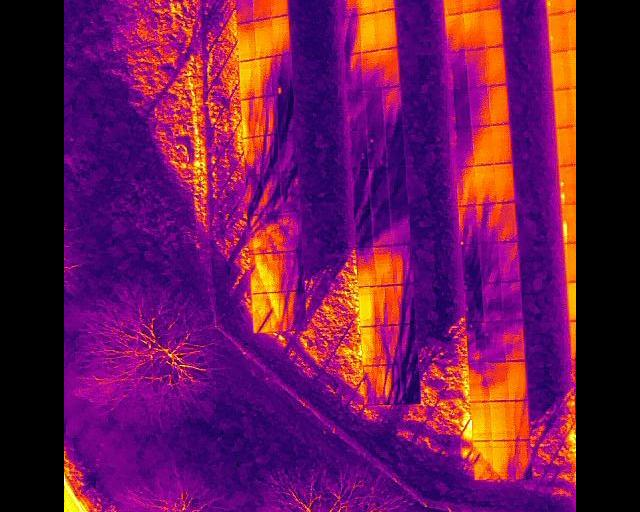Cell: (549, 12, 567, 50), (546, 0, 565, 12)
Cell-Multi: (560, 164, 576, 203)
No-Anomaly: (491, 122, 511, 164), (489, 83, 509, 125), (483, 8, 503, 48), (507, 360, 527, 399), (254, 18, 273, 57), (378, 9, 397, 48), (486, 46, 505, 85), (490, 399, 508, 440), (472, 400, 490, 439), (237, 21, 255, 59), (359, 13, 377, 51), (552, 49, 569, 88), (555, 88, 572, 126), (360, 286, 376, 326), (557, 126, 573, 165), (269, 0, 288, 15), (443, 0, 462, 15), (357, 0, 376, 13), (461, 0, 479, 12), (479, 0, 500, 9), (375, 0, 395, 9)
Shadowing: (246, 211, 269, 254), (453, 164, 476, 207), (263, 210, 285, 253), (381, 86, 403, 129), (281, 208, 303, 251), (250, 290, 272, 332), (363, 88, 385, 130), (448, 88, 471, 128), (261, 172, 282, 215), (260, 133, 281, 176), (243, 134, 264, 176), (494, 161, 515, 203), (268, 290, 289, 332), (466, 47, 487, 89), (280, 250, 301, 292), (501, 280, 522, 321), (498, 240, 519, 281), (367, 127, 388, 168), (384, 127, 405, 168), (395, 323, 416, 364), (457, 203, 478, 244), (283, 290, 304, 331), (348, 128, 369, 169), (378, 324, 399, 364), (387, 166, 407, 208), (452, 127, 473, 167), (464, 10, 485, 50), (443, 13, 465, 51), (504, 319, 524, 360), (373, 244, 393, 285), (369, 167, 389, 208), (380, 363, 400, 404), (393, 283, 413, 324), (484, 279, 504, 320), (351, 168, 371, 209), (370, 207, 391, 246), (271, 14, 291, 54), (497, 201, 517, 241), (477, 202, 497, 242), (479, 242, 499, 282), (346, 89, 366, 129), (352, 207, 372, 247), (245, 174, 264, 216), (249, 251, 268, 293), (472, 124, 491, 166), (485, 320, 504, 362), (266, 249, 284, 293), (448, 50, 468, 89), (460, 244, 480, 283), (343, 52, 363, 91), (508, 399, 527, 440), (392, 243, 411, 284), (476, 163, 495, 204), (464, 281, 483, 321), (470, 84, 488, 126), (357, 246, 376, 285), (390, 206, 409, 245), (241, 97, 259, 138), (376, 284, 394, 325), (468, 322, 486, 363), (400, 364, 419, 402), (258, 95, 276, 135), (509, 440, 527, 480), (362, 50, 380, 90), (380, 47, 398, 87), (474, 440, 492, 480), (341, 16, 360, 53), (470, 361, 488, 400), (256, 56, 273, 96), (493, 440, 510, 480), (363, 325, 380, 365), (364, 365, 381, 404), (489, 361, 506, 400), (241, 58, 257, 97), (235, 0, 254, 22), (251, 0, 272, 19), (339, 0, 359, 16)
